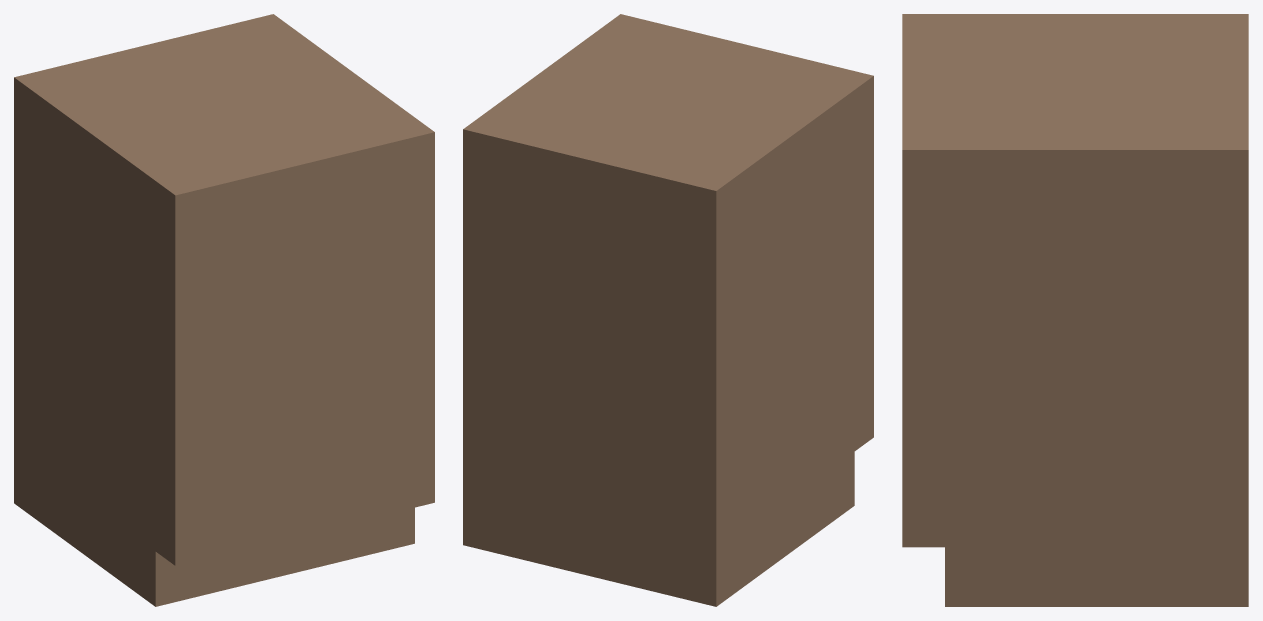
The model's file is base_cabinet_01.obj.
3 renders of one model, left to right at view 1: azimuth 30°, elevation 25°; view 2: azimuth 150°, elevation 25°; view 3: azimuth 270°, elevation 25°, orthographic. The views are drawn at different scales.
Parts seen in each view (by area): view 1: base_cabinet_01; view 2: base_cabinet_01; view 3: base_cabinet_01.
Boxes of the visible parts, x1,y1,x2,y2 form: base_cabinet_01: [14, 14, 434, 606]; base_cabinet_01: [463, 14, 873, 606]; base_cabinet_01: [902, 14, 1248, 606].
Size of the model in its own units: 575 by 902 by 619.
